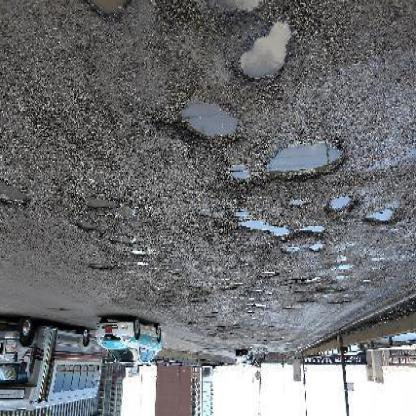pothole: (263, 140, 349, 188), (238, 22, 295, 87), (178, 99, 245, 148), (239, 220, 293, 242), (88, 3, 135, 28), (2, 181, 30, 212), (327, 197, 360, 220), (363, 209, 399, 230), (84, 201, 121, 215), (297, 224, 329, 240), (309, 244, 327, 256)
